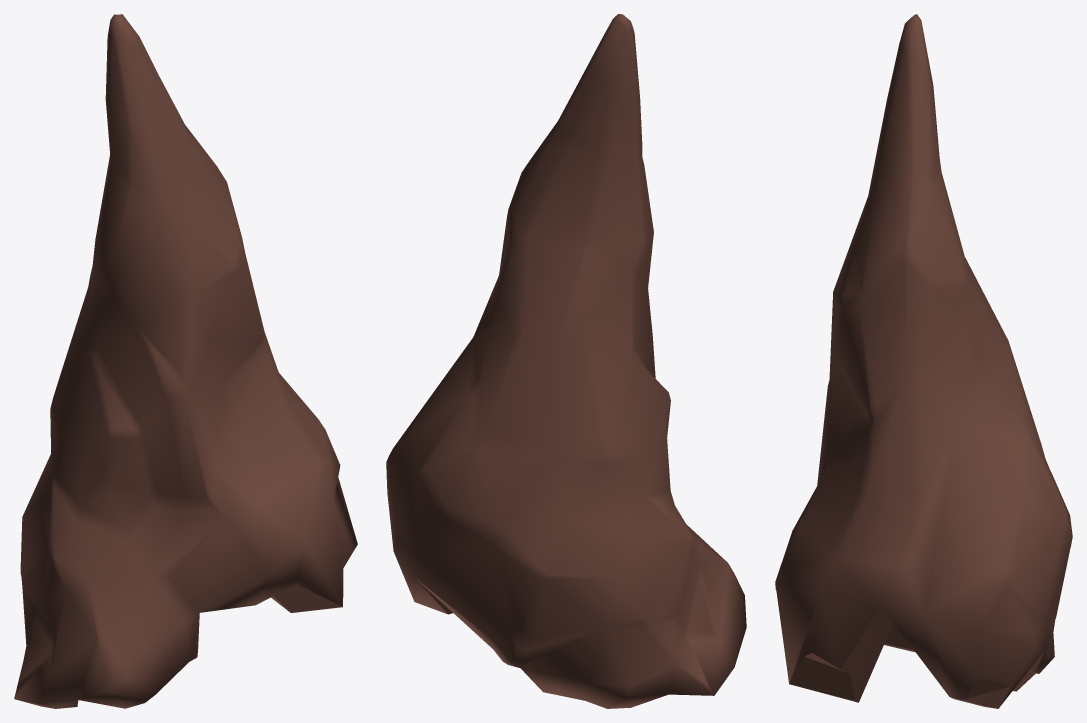
File: p_mesh_hvs_stalagmite_large_destruction_part013.fbx
The picture shows the model from 3 angles, left to right: view 1: azimuth 30°, elevation 25°; view 2: azimuth 150°, elevation 25°; view 3: azimuth 270°, elevation 25°; orthographic projection. The views are drawn at different scales.
Parts seen in each view (by area): view 1: p_large_part13; view 2: p_large_part13; view 3: p_large_part13.
Boxes of the visible parts, x1,y1,x2,y2 form: p_large_part13: (14, 14, 357, 708); p_large_part13: (386, 14, 746, 708); p_large_part13: (775, 14, 1072, 708).
Bounding box in the file's own units: 4.82 × 9.9 × 3.91.
